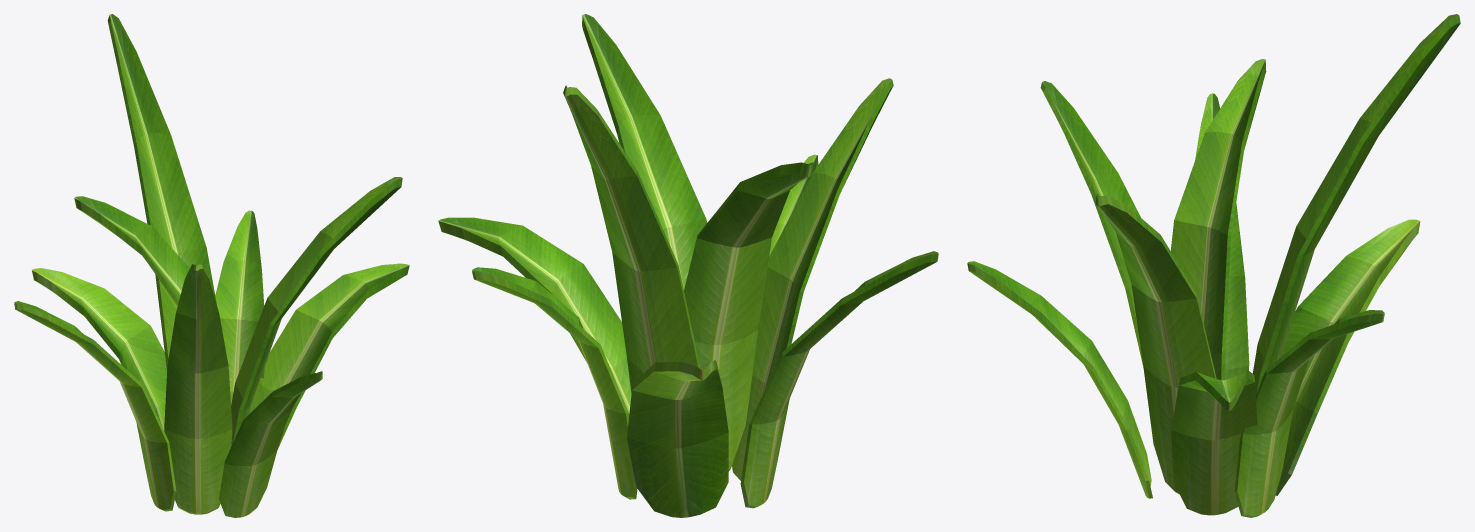
The model's file is blade_plant.fbx.
3 views of the same model, side by side, from view 1: azimuth 30°, elevation 25°; view 2: azimuth 150°, elevation 25°; view 3: azimuth 270°, elevation 25° (orthographic). The views are drawn at different scales.
Visible parts, largest first — view 1: Plane.005, Plane.001, Plane.004, Plane.006, Plane.002, Plane.003, Plane.007, Plane, Plane.008; view 2: Plane.008, Plane.001, Plane.002, Plane.005, Plane.006, Plane.004, Plane, Plane.007, Plane.003; view 3: Plane.006, Plane.008, Plane.001, Plane.002, Plane.004, Plane.007, Plane.003, Plane.005, Plane.
Boxes of the visible parts, x1,y1,x2,y2 form: Plane.005: (164,264,232,514); Plane.001: (107,14,216,371); Plane.004: (249,263,409,449); Plane.006: (231,177,402,445); Plane.002: (31,268,166,430); Plane.003: (219,371,322,517); Plane.007: (215,210,265,405); Plane: (14,301,176,511); Plane.008: (74,196,189,305); Plane.008: (684,162,813,471); Plane.001: (563,85,699,393); Plane.002: (627,360,728,517); Plane.005: (732,78,893,480); Plane.006: (582,14,707,289); Plane.004: (438,217,631,413); Plane: (740,251,938,508); Plane.007: (472,267,637,499); Plane.003: (769,154,818,256); Plane.006: (1095,194,1216,494); Plane.008: (1170,59,1266,380); Plane.001: (1252,14,1460,394); Plane.002: (1275,219,1420,495); Plane.004: (1171,370,1257,515); Plane.007: (1234,310,1384,517); Plane.003: (967,261,1152,498); Plane.005: (1040,81,1143,367); Plane: (1195,93,1249,379).
Size of the model in its own units: 751 by 731 by 675.
Materials: 9 (9 with a texture image).
